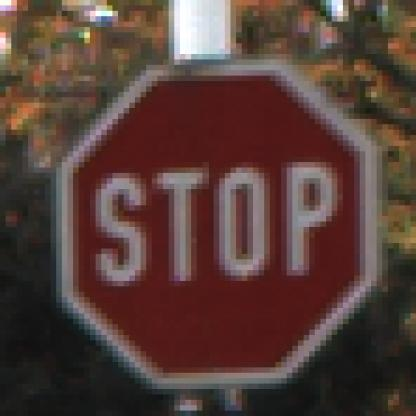stop: (53, 63, 387, 388)
